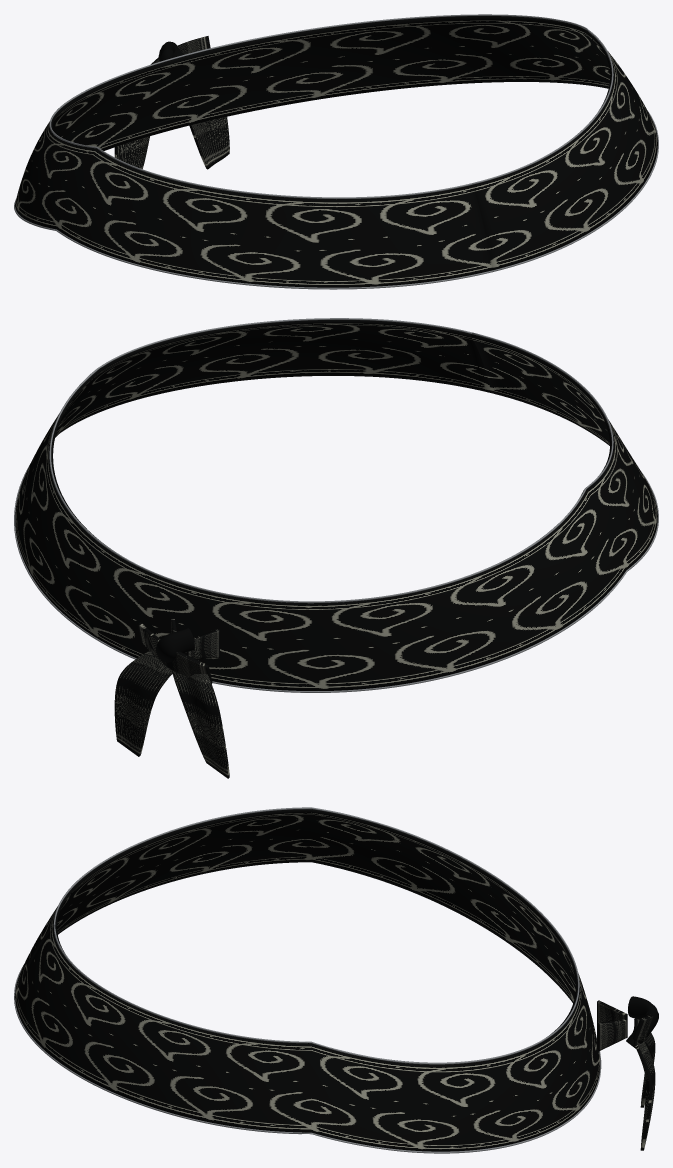
Rendered from Masculine-locs-headband251-headgear.glb.
3 views of the same model, one above another, from view 1: azimuth 30°, elevation 25°; view 2: azimuth 150°, elevation 25°; view 3: azimuth 270°, elevation 25° (orthographic).
Parts seen in each view (by area): view 1: 226 headgear / Headwear / bandana235.001, 226 headgear / Headwear / bandana hem235.001; view 2: 226 headgear / Headwear / bandana235.001, 226 headgear / Headwear / bandana hem235.001; view 3: 226 headgear / Headwear / bandana235.001, 226 headgear / Headwear / bandana hem235.001.
Boxes of the visible parts, x1,y1,x2,y2 form: 226 headgear / Headwear / bandana235.001: (15,16,657,287); 226 headgear / Headwear / bandana hem235.001: (14,14,658,289); 226 headgear / Headwear / bandana235.001: (15,320,657,778); 226 headgear / Headwear / bandana hem235.001: (14,318,658,692); 226 headgear / Headwear / bandana235.001: (15,809,658,1151); 226 headgear / Headwear / bandana hem235.001: (14,807,601,1153).
Bounding box in the file's own units: 1.03 × 0.3655 × 1.02.
Materials: 2 (1 with a texture image).
